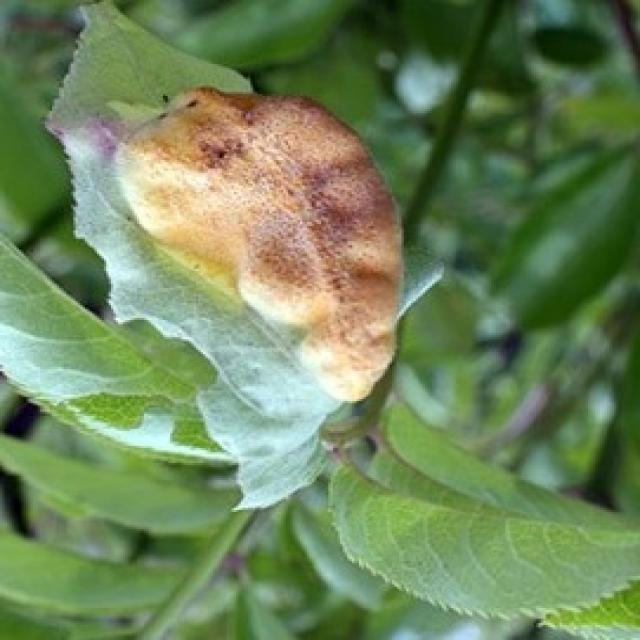Elderberry_rust: (109, 81, 406, 405)
